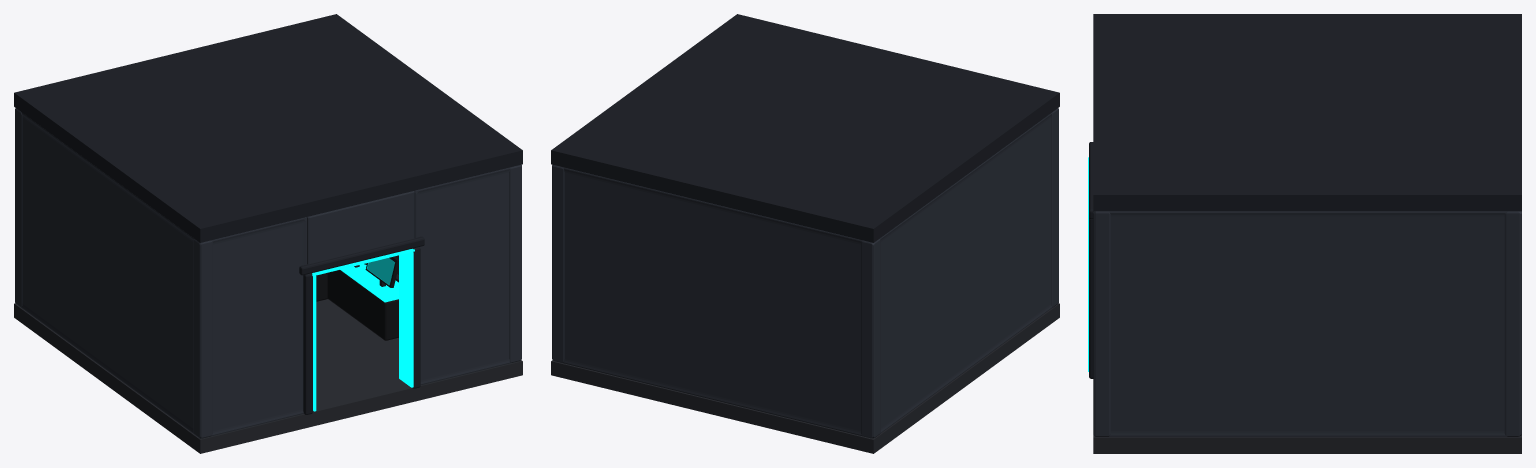
File: Mod_Room_SecurityHub.fbx
3 views of the same model, side by side, from view 1: azimuth 30°, elevation 25°; view 2: azimuth 150°, elevation 25°; view 3: azimuth 270°, elevation 25° (orthographic). The views are drawn at different scales.
Visible parts, largest first — view 1: Mod_Room_SecurityHub__SteelPanel, Mod_Room_SecurityHub__DarkMetal, Mod_Room_SecurityHub__ConcreteFloor, Mod_Room_SecurityHub__NeonCyan, Mod_Room_SecurityHub__CarbonFiber; view 2: Mod_Room_SecurityHub__SteelPanel, Mod_Room_SecurityHub__DarkMetal, Mod_Room_SecurityHub__ConcreteFloor; view 3: Mod_Room_SecurityHub__SteelPanel, Mod_Room_SecurityHub__DarkMetal, Mod_Room_SecurityHub__ConcreteFloor.
Part boxes in pixels (bbox=[...]): Mod_Room_SecurityHub__SteelPanel: bbox=[15, 108, 521, 438]; Mod_Room_SecurityHub__DarkMetal: bbox=[14, 14, 522, 414]; Mod_Room_SecurityHub__ConcreteFloor: bbox=[14, 299, 522, 453]; Mod_Room_SecurityHub__NeonCyan: bbox=[312, 248, 414, 411]; Mod_Room_SecurityHub__CarbonFiber: bbox=[316, 256, 398, 340]; Mod_Room_SecurityHub__SteelPanel: bbox=[552, 108, 1058, 438]; Mod_Room_SecurityHub__DarkMetal: bbox=[551, 14, 1059, 242]; Mod_Room_SecurityHub__ConcreteFloor: bbox=[551, 303, 1059, 453]; Mod_Room_SecurityHub__SteelPanel: bbox=[1093, 211, 1521, 436]; Mod_Room_SecurityHub__DarkMetal: bbox=[1089, 14, 1521, 378]; Mod_Room_SecurityHub__ConcreteFloor: bbox=[1093, 435, 1521, 453].
Size of the model in its own units: 24 by 16 by 24.3.
